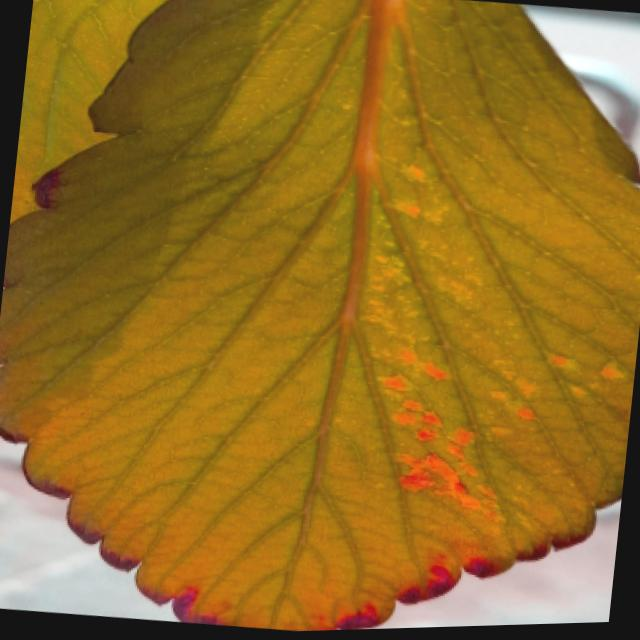Angular Leafspot: (349, 148, 638, 549)
